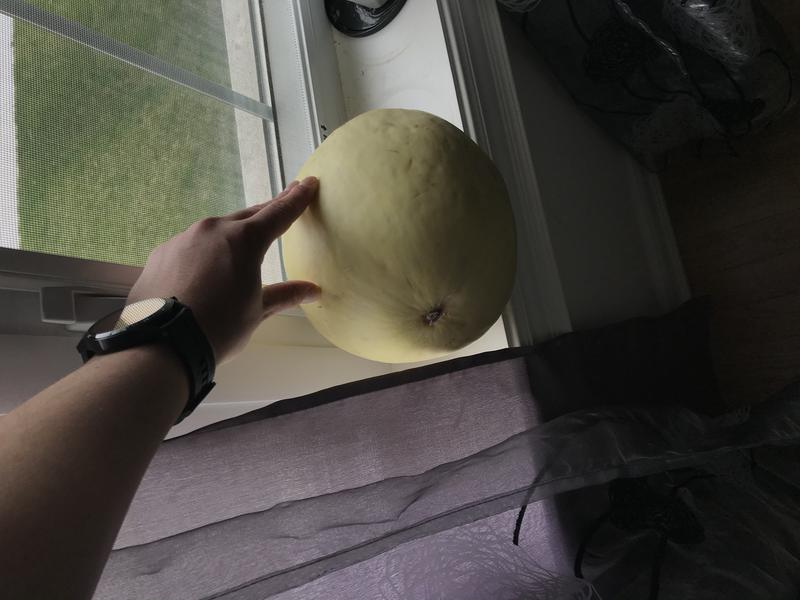honeydew: (273, 99, 534, 363)
